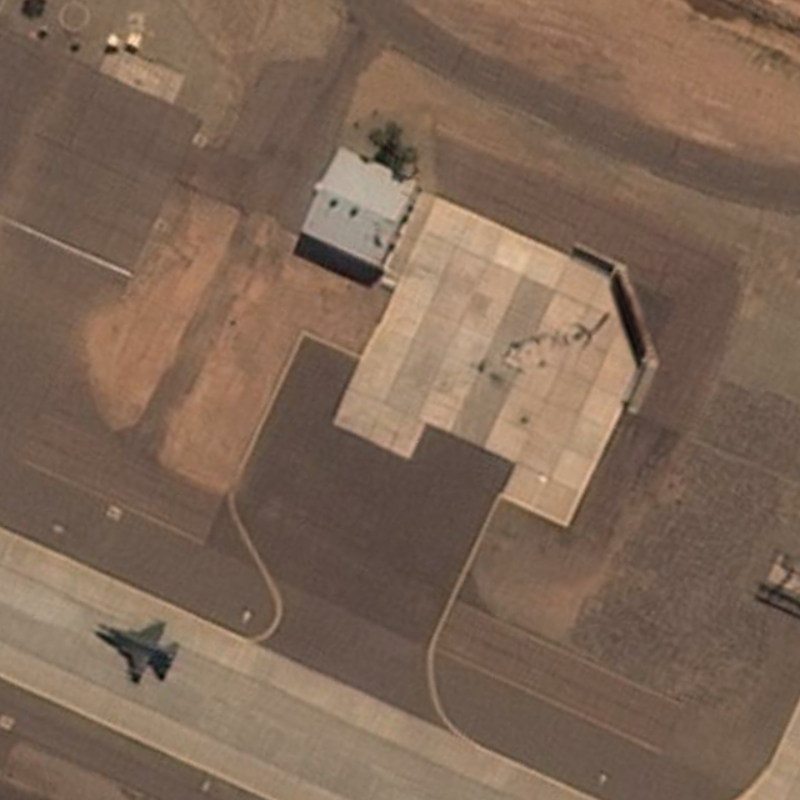A5: (91, 612, 186, 687)
